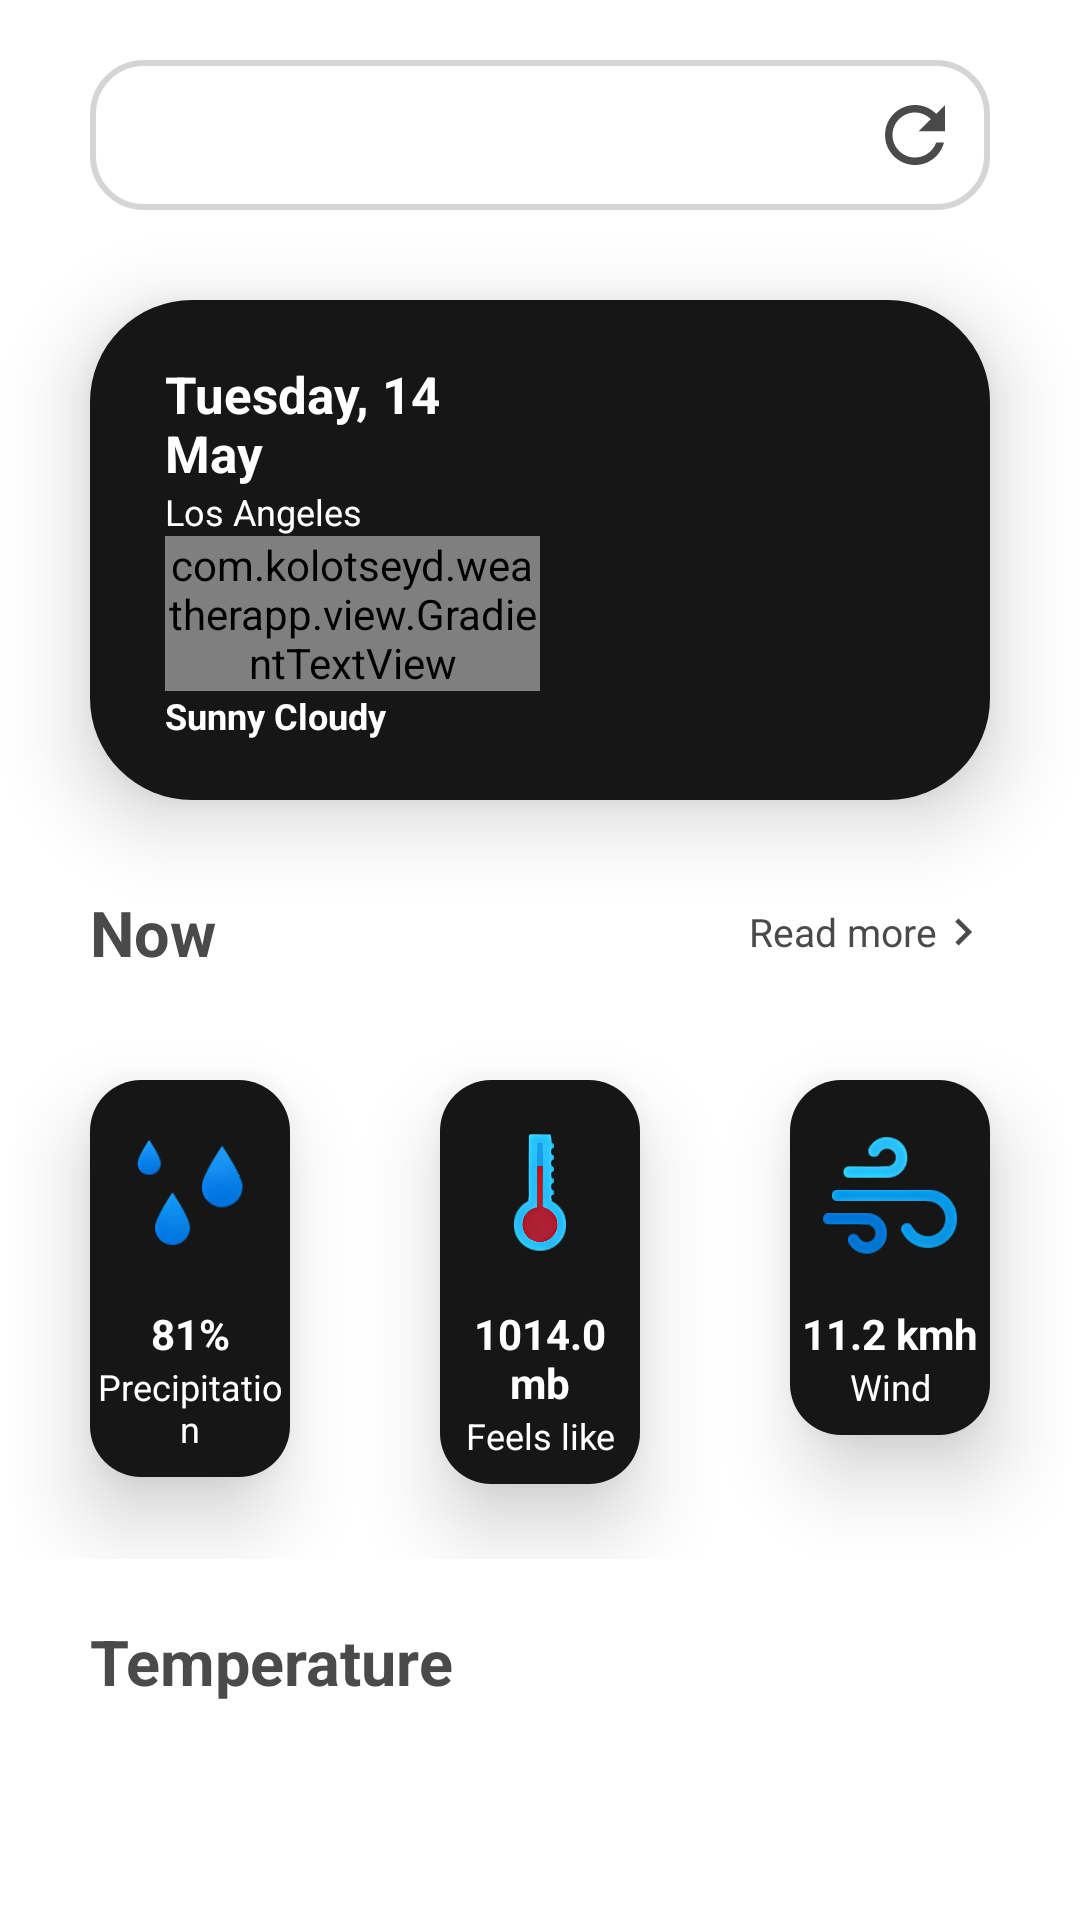

Screen size 1080px×1920px. Icon name, then its center in pixels as point (x, y):
navigate next: point (963, 932)
refresh: point (915, 135)
thermometer: point (540, 1192)
wet: point (190, 1192)
